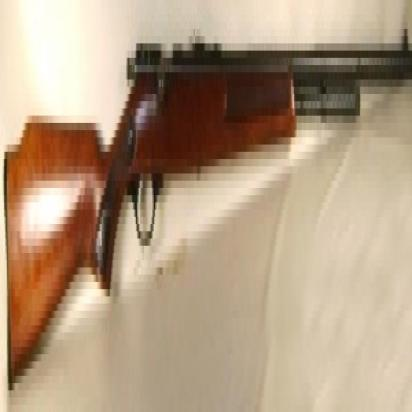Gun: (0, 0, 410, 412)
